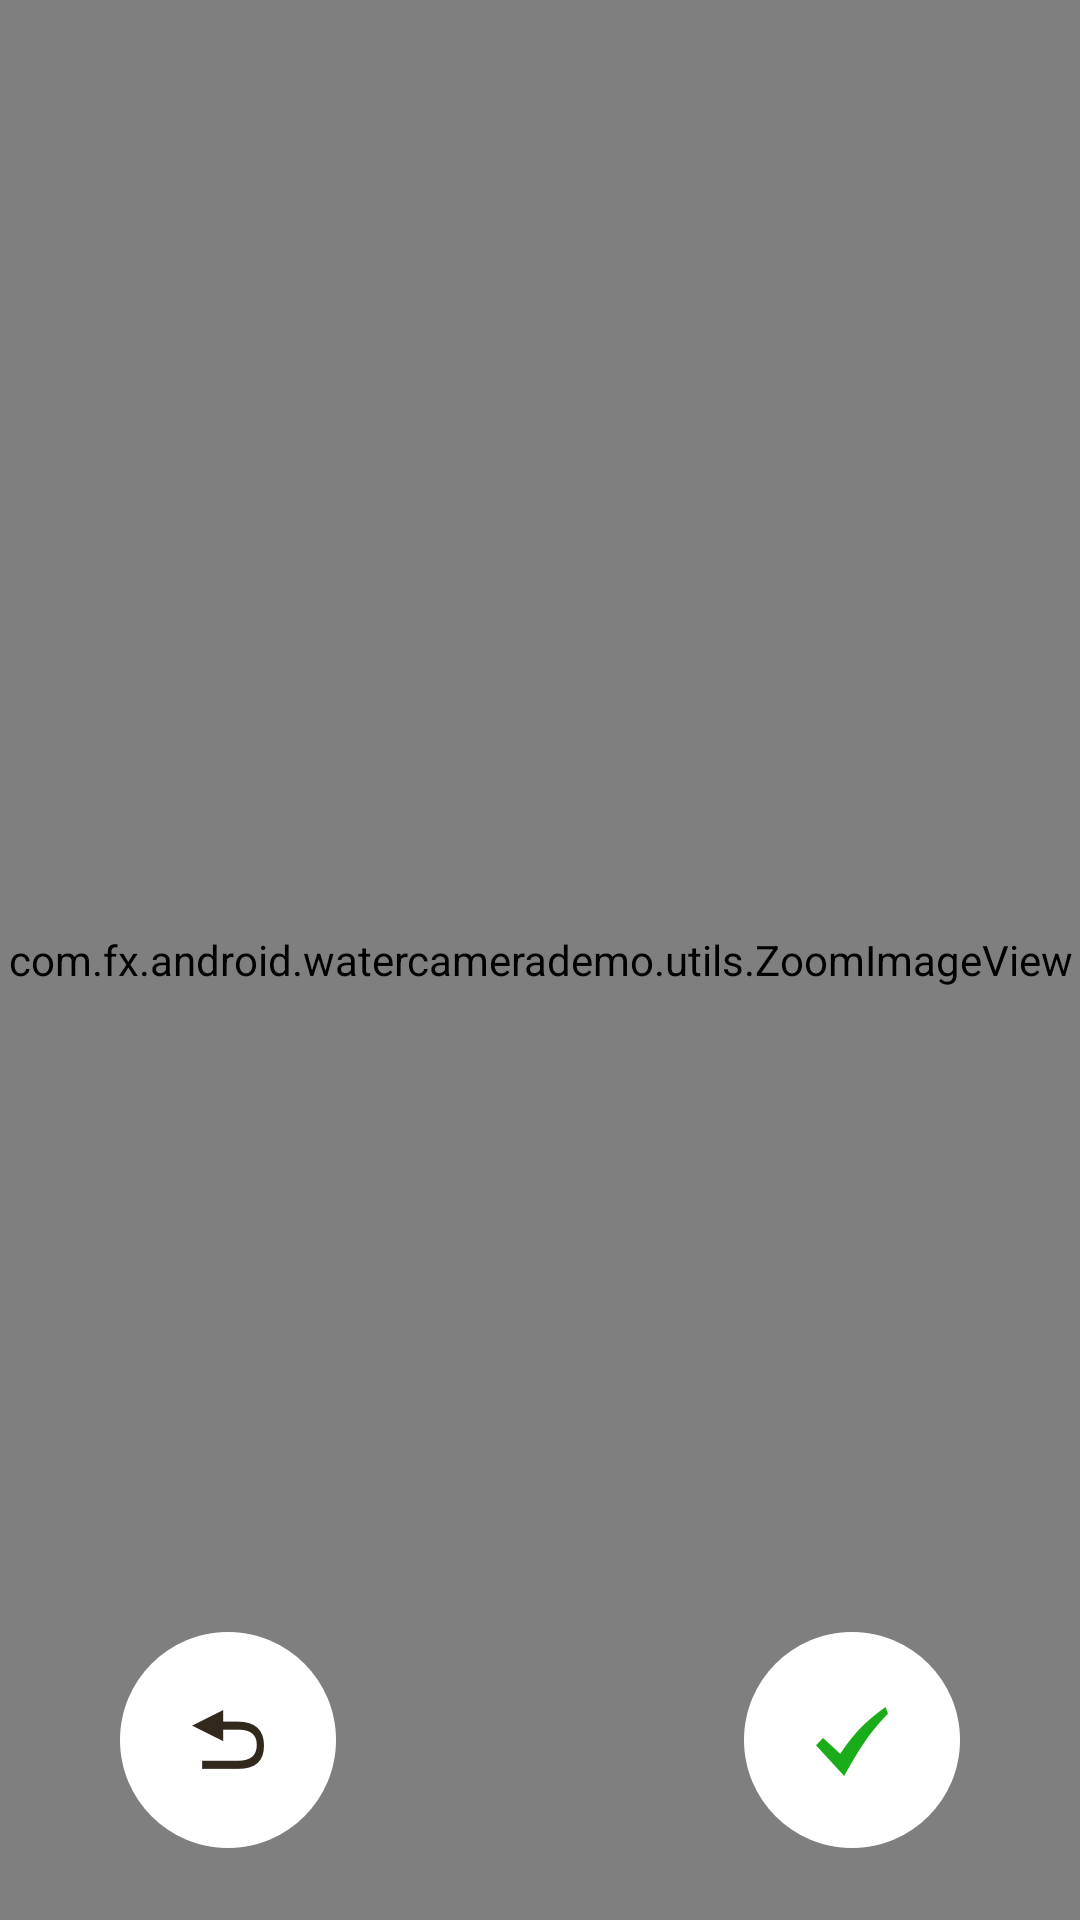

Screen size 1080w x 1920h. Icon name, then its center in pixels as (x=x, y=y):
cancle: (x=228, y=1740)
commit: (x=852, y=1740)
